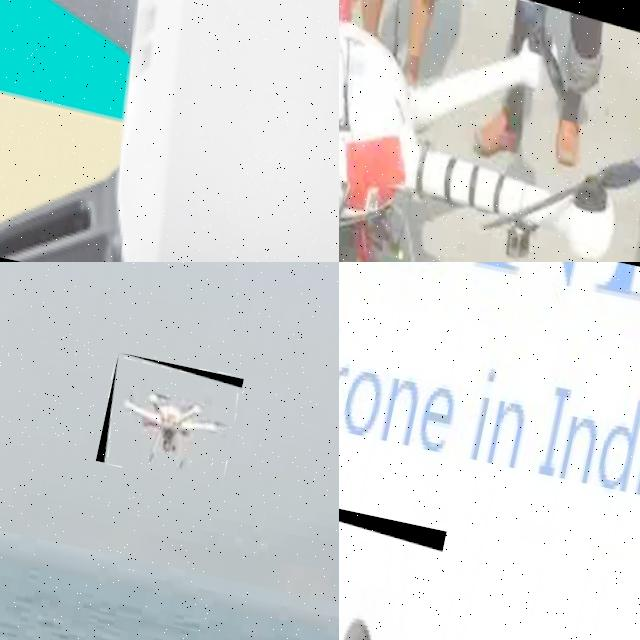drone: (0, 0, 339, 262), (339, 0, 640, 262), (95, 352, 243, 487)
